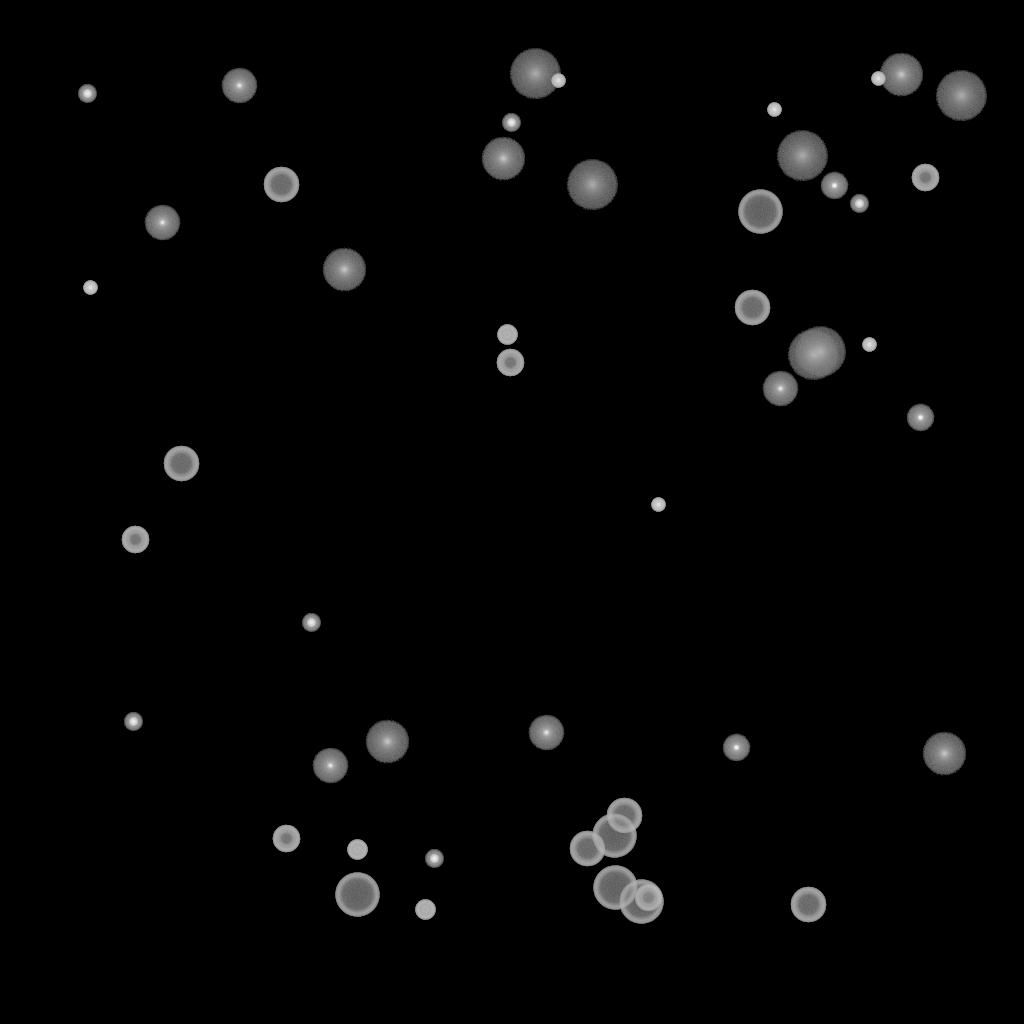depth:-10: (906, 404, 934, 432), (820, 172, 848, 200), (722, 734, 750, 762)
depth:-20: (302, 614, 320, 632), (78, 85, 96, 103), (850, 195, 868, 213), (124, 713, 142, 731), (425, 850, 443, 868), (502, 114, 520, 132)
depth:-30: (862, 338, 876, 352), (551, 74, 565, 88), (83, 281, 97, 295), (767, 103, 781, 117), (871, 72, 885, 86), (651, 498, 665, 512)
depth:-40: (347, 840, 367, 860), (415, 900, 435, 920), (497, 325, 517, 345)
depth:-50: (121, 526, 149, 554), (634, 884, 662, 912), (496, 349, 524, 377), (272, 825, 300, 853), (911, 164, 939, 192)
depth:-60: (734, 290, 770, 326), (606, 798, 642, 834), (263, 167, 299, 203), (569, 831, 605, 867), (790, 887, 826, 923), (163, 446, 199, 482)
depth:-70: (593, 866, 637, 910), (738, 190, 782, 234), (619, 880, 663, 924), (335, 873, 379, 917), (592, 814, 636, 858)
depth:0: (144, 205, 180, 241), (528, 715, 564, 751), (312, 748, 348, 784), (762, 371, 798, 407), (221, 68, 257, 104)
depth:10: (322, 248, 366, 292), (922, 732, 966, 776), (879, 53, 923, 97), (481, 137, 525, 181), (365, 720, 409, 764)
depth:20: (794, 327, 846, 377), (787, 330, 839, 380), (776, 131, 828, 181), (566, 160, 618, 210), (509, 49, 561, 99), (935, 71, 987, 121)
